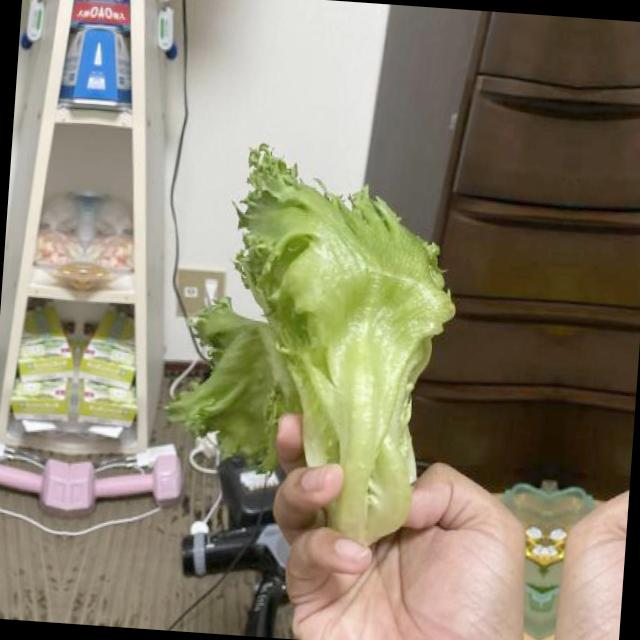healthy: (154, 132, 471, 558)
